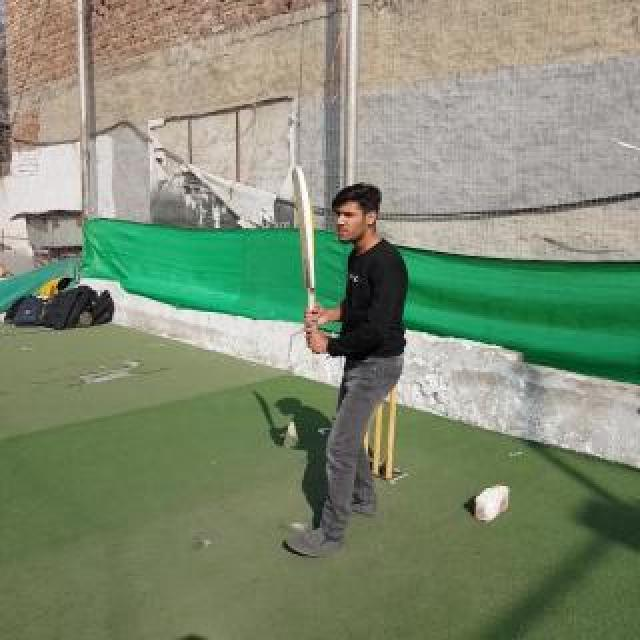bat: (292, 165, 318, 355)
